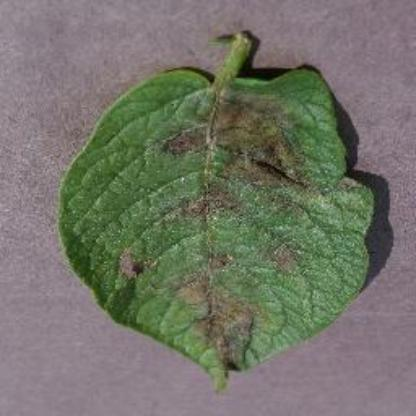Late-Blight: (25, 30, 388, 390)
